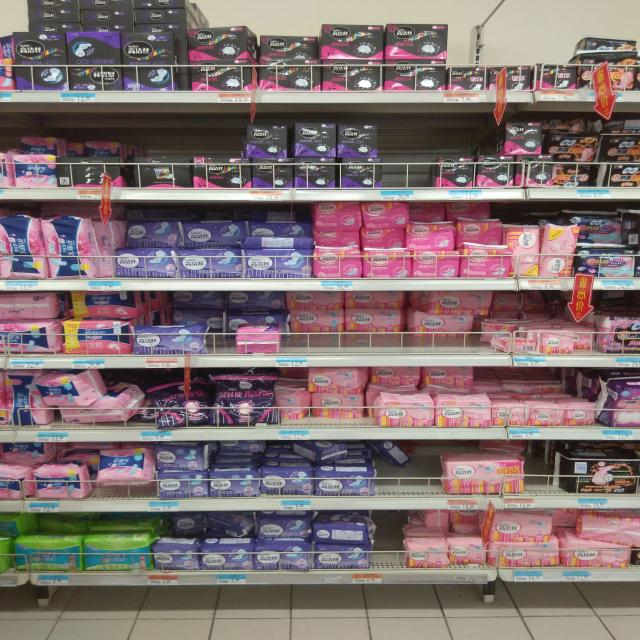unorganised: (287, 293, 409, 350), (37, 368, 143, 426), (276, 370, 368, 422), (411, 292, 490, 345), (314, 204, 407, 247), (64, 30, 122, 91), (162, 293, 287, 321), (555, 508, 640, 546), (213, 441, 366, 461), (368, 366, 473, 393), (97, 447, 156, 495), (149, 382, 209, 426), (59, 155, 124, 189), (63, 291, 139, 320), (160, 514, 247, 538), (136, 324, 206, 353), (257, 30, 321, 60), (546, 123, 598, 159), (134, 158, 193, 188), (408, 202, 493, 222), (543, 223, 575, 276), (1, 292, 59, 321), (235, 323, 283, 356), (314, 517, 372, 544), (407, 511, 478, 532), (125, 222, 179, 248), (409, 224, 456, 252), (582, 213, 622, 243), (375, 442, 416, 470), (1, 441, 53, 463), (243, 235, 313, 250), (460, 222, 503, 245)
